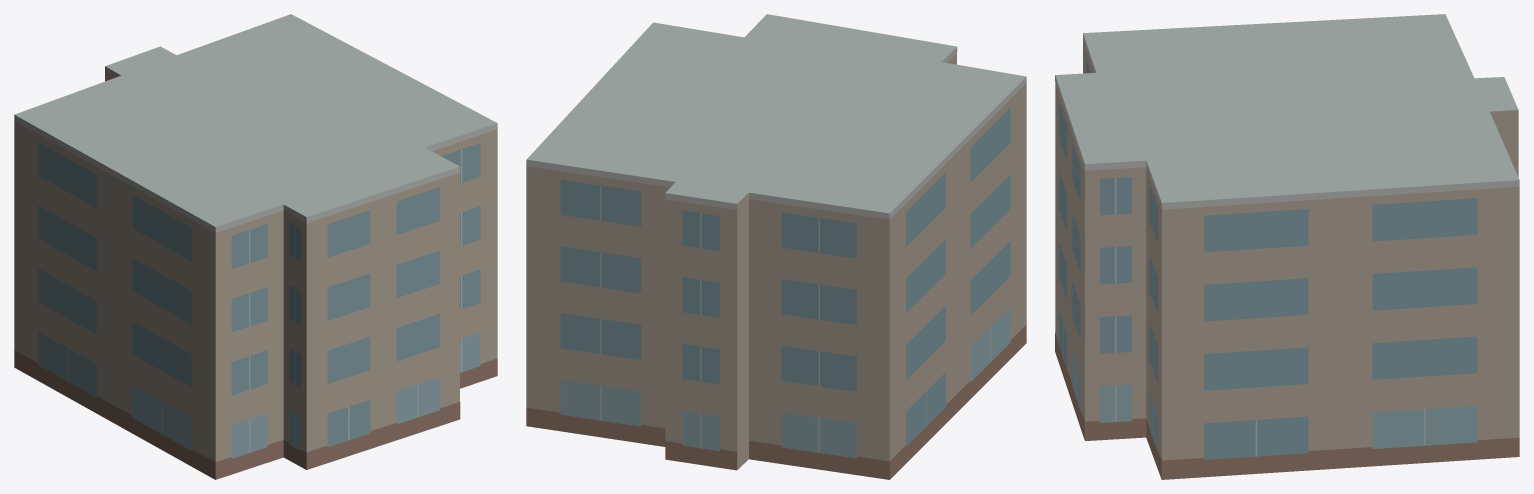
The model's file is survey-upis-32530030.glb.
3 renders of one model, left to right at view 1: azimuth 30°, elevation 25°; view 2: azimuth 150°, elevation 25°; view 3: azimuth 270°, elevation 25°, orthographic. The views are drawn at different scales.
Visible parts, largest first — view 1: survey-upis-32530030.tmp; view 2: survey-upis-32530030.tmp; view 3: survey-upis-32530030.tmp.
Boxes of the visible parts, <box> form: survey-upis-32530030.tmp: <box>14,14,497,479</box>; survey-upis-32530030.tmp: <box>526,14,1026,479</box>; survey-upis-32530030.tmp: <box>1055,14,1519,479</box>.
Bounding box in the file's own units: 14.95 × 10.2 × 15.52.
